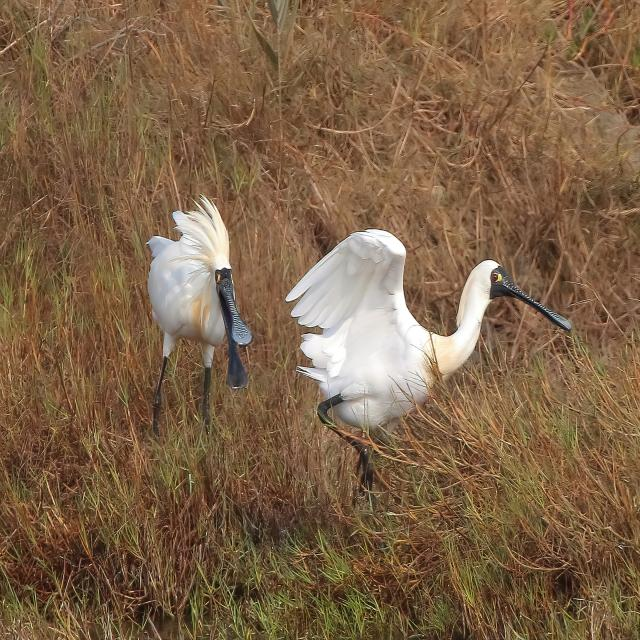Black-faced spoonbill: (286, 230, 571, 489), (148, 196, 251, 433)
